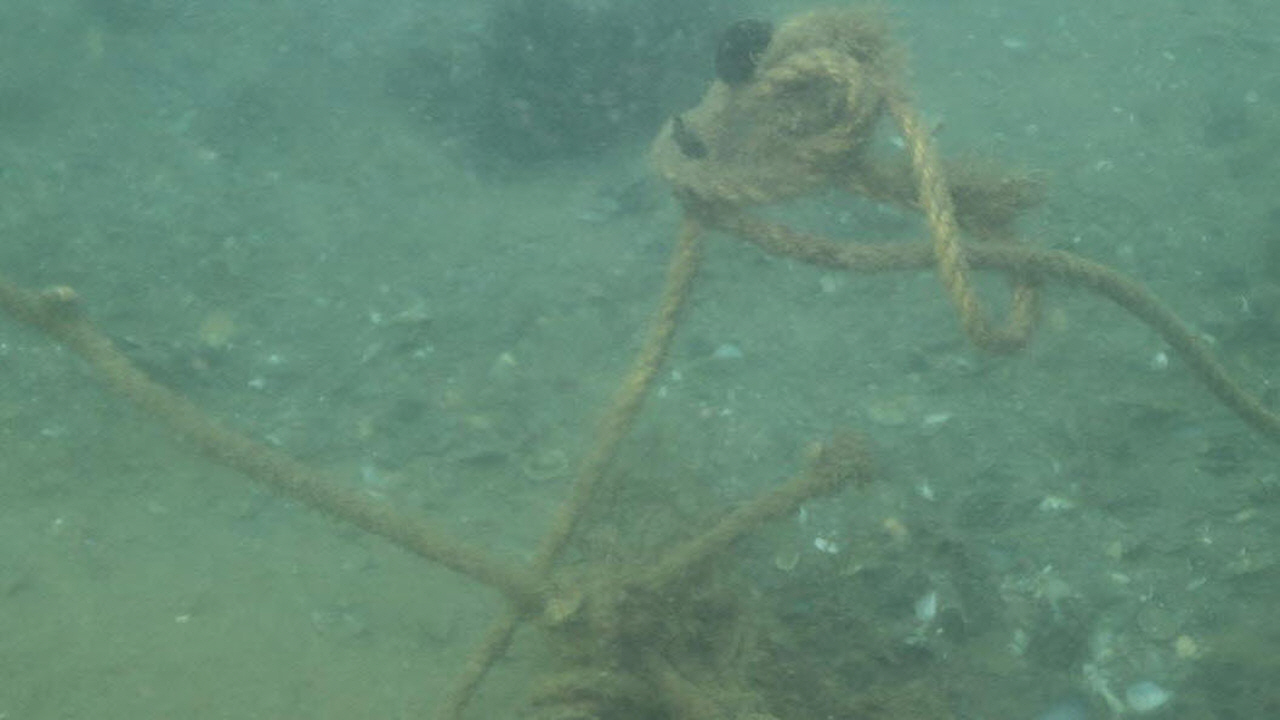bundle of ropes: (0, 12, 1280, 720)
